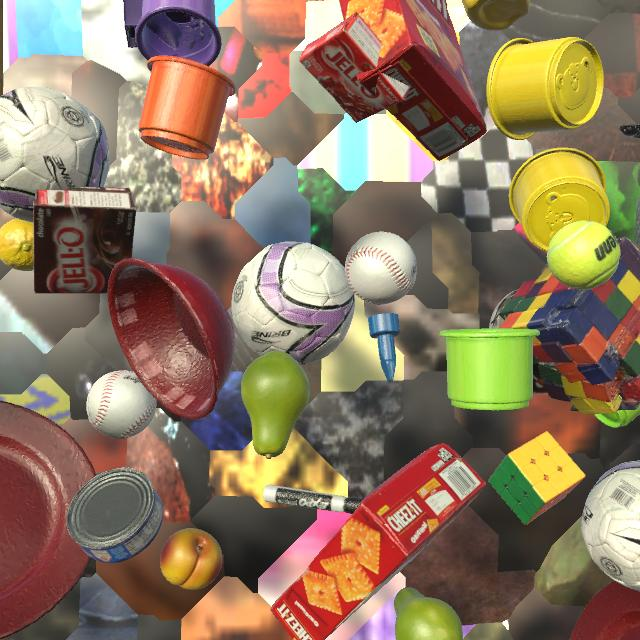ycb_003_cracker_box: (270, 443, 486, 640), (339, 0, 487, 161)
ycb_005_tomato_soup_can: (11, 639, 14, 640)
ycb_006_mustard_bottle: (461, 0, 531, 31)
ycb_007_tuna_fish_can: (66, 467, 164, 563)
ycb_008_pudding_box: (33, 186, 136, 294)
ycb_009_gelatin_box: (299, 12, 410, 123)
ycb_014_lemon: (0, 218, 34, 271)
ycb_015_peach: (160, 528, 222, 590)
ycb_016_pear: (241, 351, 310, 459), (394, 587, 463, 640)
